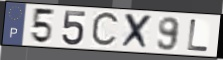5: (60, 9, 88, 46), (30, 7, 56, 45)
9: (156, 16, 182, 51)
C: (89, 10, 121, 50)
L: (186, 18, 211, 53)
X: (119, 12, 154, 51)
